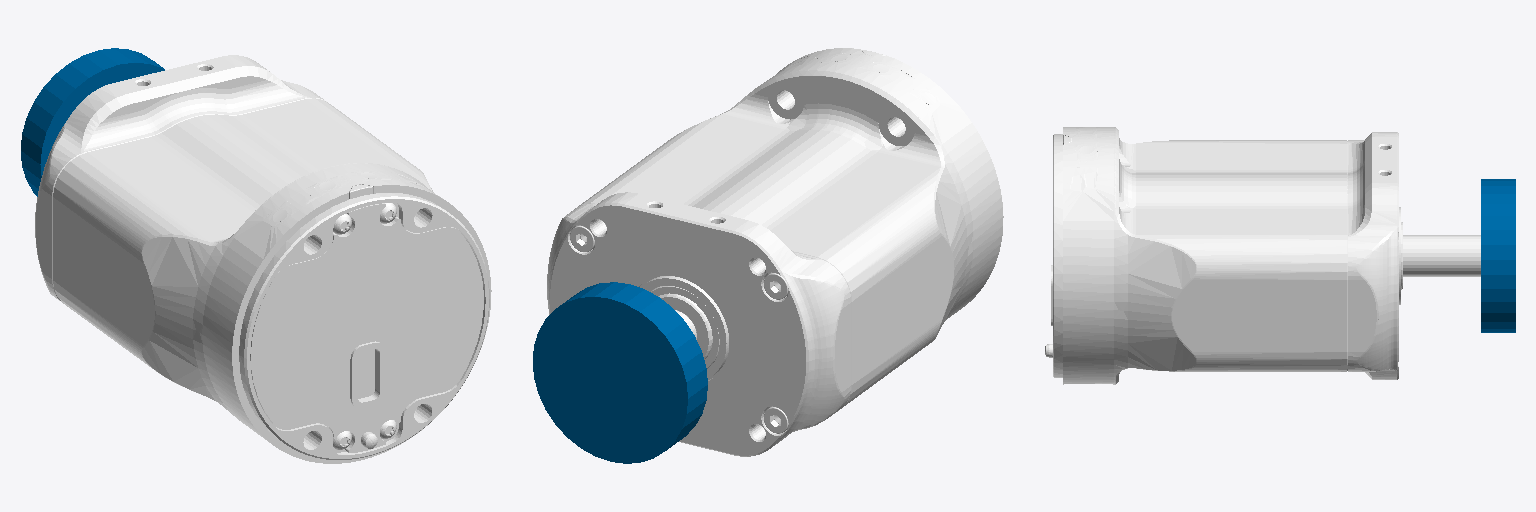
robot.urdf — ur5e_epick:
<?xml version="1.0" encoding="utf-8" ?>
<!-- =================================================================================== -->
<!-- |    This document was autogenerated by xacro from [local-path]/lab_workspaces/lab09_ws/src/lab09_gazebo/urdf/ur5e_robotiq_epick_robot.urdf.xacro | -->
<!-- |    EDITING THIS FILE BY HAND IS NOT RECOMMENDED                                 | -->
<!-- =================================================================================== -->
<robot name="ur5e_epick">
    <!--
    Base UR robot series xacro macro.

    NOTE: this is NOT a URDF. It cannot directly be loaded by consumers
    expecting a flattened '.urdf' file. See the top-level '.xacro' for that
    (but note: that .xacro must still be processed by the xacro command).

    For use in '.launch' files: use one of the 'load_urX.launch' convenience
    launch files.

    This file models the base kinematic chain of a UR robot, which then gets
    parameterised by various configuration files to convert it into a UR3(e),
    UR5(e), UR10(e) or UR16e.

    NOTE: the default kinematic parameters (ie: link lengths, frame locations,
    offets, etc) do not correspond to any particular robot. They are defaults
    only. There WILL be non-zero offsets between the Forward Kinematics results
    in TF (ie: robot_state_publisher) and the values reported by the Teach
    Pendant.

    For accurate (and robot-specific) transforms, the 'kinematics_parameters_file'
    parameter MUST point to a .yaml file containing the appropriate values for
    the targetted robot.

    If using the UniversalRobots/Universal_Robots_ROS_Driver, follow the steps
    described in the readme of that repository to extract the kinematic
    calibration from the controller and generate the required .yaml file.

    Main author of the migration to yaml configs: [author].

    Contributors to previous versions (in no particular order):

     - [author]
     - [author]
     - [author]
     - [author]
     - [author]
     - [author]
     - [author]
     - [author]
     - [author]
     - [author]
     - [author]
     - [author]
     - [author]
     - [author]
     - [author]
     - [author]
     - [author]
  -->
    <!--
    NOTE: the macro defined in this file is NOT part of the public API of this
          package. Users CANNOT rely on this file being available, or stored in
          this location. Nor can they rely on the existence of the macro.
  -->
    <transmission name="shoulder_pan_trans">
        <type>transmission_interface/SimpleTransmission</type>
        <joint name="shoulder_pan_joint">
            <hardwareInterface>hardware_interface/PositionJointInterface</hardwareInterface>
        </joint>
        <actuator name="shoulder_pan_motor">
            <mechanicalReduction>1</mechanicalReduction>
        </actuator>
    </transmission>
    <transmission name="shoulder_lift_trans">
        <type>transmission_interface/SimpleTransmission</type>
        <joint name="shoulder_lift_joint">
            <hardwareInterface>hardware_interface/PositionJointInterface</hardwareInterface>
        </joint>
        <actuator name="shoulder_lift_motor">
            <mechanicalReduction>1</mechanicalReduction>
        </actuator>
    </transmission>
    <transmission name="elbow_trans">
        <type>transmission_interface/SimpleTransmission</type>
        <joint name="elbow_joint">
            <hardwareInterface>hardware_interface/PositionJointInterface</hardwareInterface>
        </joint>
        <actuator name="elbow_motor">
            <mechanicalReduction>1</mechanicalReduction>
        </actuator>
    </transmission>
    <transmission name="wrist_1_trans">
        <type>transmission_interface/SimpleTransmission</type>
        <joint name="wrist_1_joint">
            <hardwareInterface>hardware_interface/PositionJointInterface</hardwareInterface>
        </joint>
        <actuator name="wrist_1_motor">
            <mechanicalReduction>1</mechanicalReduction>
        </actuator>
    </transmission>
    <transmission name="wrist_2_trans">
        <type>transmission_interface/SimpleTransmission</type>
        <joint name="wrist_2_joint">
            <hardwareInterface>hardware_interface/PositionJointInterface</hardwareInterface>
        </joint>
        <actuator name="wrist_2_motor">
            <mechanicalReduction>1</mechanicalReduction>
        </actuator>
    </transmission>
    <transmission name="wrist_3_trans">
        <type>transmission_interface/SimpleTransmission</type>
        <joint name="wrist_3_joint">
            <hardwareInterface>hardware_interface/PositionJointInterface</hardwareInterface>
        </joint>
        <actuator name="wrist_3_motor">
            <mechanicalReduction>1</mechanicalReduction>
        </actuator>
    </transmission>
    <!-- links: main serial chain -->
    <link name="base_link" />
    <link name="base_link_inertia">
        <visual>
            <origin rpy="0 0 3.14159265359" xyz="0 0 0" />
            <geometry>
                <mesh filename="package://ur_description/meshes/ur5e/visual/base.dae" />
            </geometry>
            <material name="LightGrey">
                <color rgba="0.7 0.7 0.7 1.0" />
            </material>
        </visual>
        <collision>
            <origin rpy="0 0 3.14159265359" xyz="0 0 0" />
            <geometry>
                <mesh filename="package://ur_description/meshes/ur5e/collision/base.stl" />
            </geometry>
        </collision>
        
<inertial>
            <mass value="4.0" />
            <origin rpy="0 0 0" xyz="0 0 0" />
            <inertia ixx="0.00443333156" ixy="0.0" ixz="0.0" iyy="0.00443333156" iyz="0.0" izz="0.0072" />
        </inertial>

    </link>
    <link name="shoulder_link">
        <visual>
            <origin rpy="0 0 3.14159265359" xyz="0 0 0" />
            <geometry>
                <mesh filename="package://ur_description/meshes/ur5e/visual/shoulder.dae" />
            </geometry>
            <material name="LightGrey">
                <color rgba="0.7 0.7 0.7 1.0" />
            </material>
        </visual>
        <collision>
            <origin rpy="0 0 3.14159265359" xyz="0 0 0" />
            <geometry>
                <mesh filename="package://ur_description/meshes/ur5e/collision/shoulder.stl" />
            </geometry>
        </collision>
        
<inertial>
            <mass value="3.7" />
            <origin rpy="0 0 0" xyz="0 0 0" />
            <inertia ixx="0.010267495893" ixy="0.0" ixz="0.0" iyy="0.010267495893" iyz="0.0" izz="0.00666" />
        </inertial>

    </link>
    <link name="upper_arm_link">
        <visual>
            <origin rpy="1.57079632679 0 -1.57079632679" xyz="0 0 0.138" />
            <geometry>
                <mesh filename="package://ur_description/meshes/ur5e/visual/upperarm.dae" />
            </geometry>
            <material name="LightGrey">
                <color rgba="0.7 0.7 0.7 1.0" />
            </material>
        </visual>
        <collision>
            <origin rpy="1.57079632679 0 -1.57079632679" xyz="0 0 0.138" />
            <geometry>
                <mesh filename="package://ur_description/meshes/ur5e/collision/upperarm.stl" />
            </geometry>
        </collision>
        
<inertial>
            <mass value="8.393" />
            <origin rpy="0 1.57079632679 0" xyz="-0.2125 0.0 0.138" />
            <inertia ixx="0.133885781862" ixy="0.0" ixz="0.0" iyy="0.133885781862" iyz="0.0" izz="0.0151074" />
        </inertial>

    </link>
    <link name="forearm_link">
        <visual>
            <origin rpy="1.57079632679 0 -1.57079632679" xyz="0 0 0.007" />
            <geometry>
                <mesh filename="package://ur_description/meshes/ur5e/visual/forearm.dae" />
            </geometry>
            <material name="LightGrey">
                <color rgba="0.7 0.7 0.7 1.0" />
            </material>
        </visual>
        <collision>
            <origin rpy="1.57079632679 0 -1.57079632679" xyz="0 0 0.007" />
            <geometry>
                <mesh filename="package://ur_description/meshes/ur5e/collision/forearm.stl" />
            </geometry>
        </collision>
        
<inertial>
            <mass value="2.275" />
            <origin rpy="0 1.57079632679 0" xyz="-0.1961 0.0 0.007" />
            <inertia ixx="0.0312093550996" ixy="0.0" ixz="0.0" iyy="0.0312093550996" iyz="0.0" izz="0.004095" />
        </inertial>

    </link>
    <link name="wrist_1_link">
        <visual>
            <!-- TODO: Move this to a parameter -->
            <origin rpy="1.57079632679 0 0" xyz="0 0 -0.127" />
            <geometry>
                <mesh filename="package://ur_description/meshes/ur5e/visual/wrist1.dae" />
            </geometry>
            <material name="LightGrey">
                <color rgba="0.7 0.7 0.7 1.0" />
            </material>
        </visual>
        <collision>
            <origin rpy="1.57079632679 0 0" xyz="0 0 -0.127" />
            <geometry>
                <mesh filename="package://ur_description/meshes/ur5e/collision/wrist1.stl" />
            </geometry>
        </collision>
        
<inertial>
            <mass value="1.219" />
            <origin rpy="0 0 0" xyz="0 0 0" />
            <inertia ixx="0.00255989897604" ixy="0.0" ixz="0.0" iyy="0.00255989897604" iyz="0.0" izz="0.0021942" />
        </inertial>

    </link>
    <link name="wrist_2_link">
        <visual>
            <origin rpy="0 0 0" xyz="0 0 -0.0997" />
            <geometry>
                <mesh filename="package://ur_description/meshes/ur5e/visual/wrist2.dae" />
            </geometry>
            <material name="LightGrey">
                <color rgba="0.7 0.7 0.7 1.0" />
            </material>
        </visual>
        <collision>
            <origin rpy="0 0 0" xyz="0 0 -0.0997" />
            <geometry>
                <mesh filename="package://ur_description/meshes/ur5e/collision/wrist2.stl" />
            </geometry>
        </collision>
        
<inertial>
            <mass value="1.219" />
            <origin rpy="0 0 0" xyz="0 0 0" />
            <inertia ixx="0.00255989897604" ixy="0.0" ixz="0.0" iyy="0.00255989897604" iyz="0.0" izz="0.0021942" />
        </inertial>

    </link>
    <link name="wrist_3_link">
        <visual>
            <origin rpy="1.57079632679 0 0" xyz="0 0 -0.0989" />
            <geometry>
                <mesh filename="package://ur_description/meshes/ur5e/visual/wrist3.dae" />
            </geometry>
            <material name="LightGrey">
                <color rgba="0.7 0.7 0.7 1.0" />
            </material>
        </visual>
        <collision>
            <origin rpy="1.57079632679 0 0" xyz="0 0 -0.0989" />
            <geometry>
                <mesh filename="package://ur_description/meshes/ur5e/collision/wrist3.stl" />
            </geometry>
        </collision>
        
<inertial>
            <mass value="0.1879" />
            <origin rpy="0 0 0" xyz="0.0 0.0 -0.0229" />
            <inertia ixx="9.89041005217e-05" ixy="0.0" ixz="0.0" iyy="9.89041005217e-05" iyz="0.0" izz="0.0001321171875" />
        </inertial>

    </link>
    <!-- joints: main serial chain -->
    <joint name="base_link-base_link_inertia" type="fixed">
        <parent link="base_link" />
        <child link="base_link_inertia" />
        <!-- 'base_link' is REP-103 aligned (so X+ forward), while the internal
           frames of the robot/controller have X+ pointing backwards.
           Use the joint between 'base_link' and 'base_link_inertia' (a dummy
           link/frame) to introduce the necessary rotation over Z (of pi rad).
      -->
        <origin rpy="0 0 3.14159265359" xyz="0 0 0" />
    </joint>
    <joint name="shoulder_pan_joint" type="revolute">
        <parent link="base_link_inertia" />
        <child link="shoulder_link" />
        <origin rpy="0 0 0" xyz="0 0 0.1625" />
        <axis xyz="0 0 1" />
        <limit effort="150.0" lower="-3.14159265359" upper="3.14159265359" velocity="3.14159265359" />
        <dynamics damping="0" friction="0" />
    </joint>
    <joint name="shoulder_lift_joint" type="revolute">
        <parent link="shoulder_link" />
        <child link="upper_arm_link" />
        <origin rpy="1.570796327 0 0" xyz="0 0 0" />
        <axis xyz="0 0 1" />
        <limit effort="150.0" lower="-6.28318530718" upper="6.28318530718" velocity="3.14159265359" />
        <dynamics damping="0" friction="0" />
    </joint>
    <joint name="elbow_joint" type="revolute">
        <parent link="upper_arm_link" />
        <child link="forearm_link" />
        <origin rpy="0 0 0" xyz="-0.425 0 0" />
        <axis xyz="0 0 1" />
        <limit effort="150.0" lower="-3.14159265359" upper="3.14159265359" velocity="3.14159265359" />
        <dynamics damping="0" friction="0" />
    </joint>
    <joint name="wrist_1_joint" type="revolute">
        <parent link="forearm_link" />
        <child link="wrist_1_link" />
        <origin rpy="0 0 0" xyz="-0.3922 0 0.1333" />
        <axis xyz="0 0 1" />
        <limit effort="28.0" lower="-6.28318530718" upper="6.28318530718" velocity="3.14159265359" />
        <dynamics damping="0" friction="0" />
    </joint>
    <joint name="wrist_2_joint" type="revolute">
        <parent link="wrist_1_link" />
        <child link="wrist_2_link" />
        <origin rpy="1.570796327 0 0" xyz="0 -0.0997 -2.0448811823e-11" />
        <axis xyz="0 0 1" />
        <limit effort="28.0" lower="-6.28318530718" upper="6.28318530718" velocity="3.14159265359" />
        <dynamics damping="0" friction="0" />
    </joint>
    <joint name="wrist_3_joint" type="revolute">
        <parent link="wrist_2_link" />
        <child link="wrist_3_link" />
        <origin rpy="1.57079632659 3.14159265359 3.14159265359" xyz="0 0.0996 -2.04283014801e-11" />
        <axis xyz="0 0 1" />
        <limit effort="28.0" lower="-6.28318530718" upper="6.28318530718" velocity="3.14159265359" />
        <dynamics damping="0" friction="0" />
    </joint>
    <!-- ROS-Industrial 'base' frame: base_link to UR 'Base' Coordinates transform -->
    <link name="base" />
    <joint name="base_link-base_fixed_joint" type="fixed">
        <!-- Note the rotation over Z of pi radians: as base_link is REP-103
           aligned (ie: has X+ forward, Y+ left and Z+ up), this is needed
           to correctly align 'base' with the 'Base' coordinate system of
           the UR controller.
      -->
        <origin rpy="0 0 3.14159265359" xyz="0 0 0" />
        <parent link="base_link" />
        <child link="base" />
    </joint>
    <!-- ROS-Industrial 'flange' frame: attachment point for EEF models -->
    <link name="flange" />
    <joint name="wrist_3-flange" type="fixed">
        <parent link="wrist_3_link" />
        <child link="flange" />
        <origin rpy="0 -1.57079632679 -1.57079632679" xyz="0 0 0" />
    </joint>
    <!-- ROS-Industrial 'tool0' frame: all-zeros tool frame -->
    <link name="tool0" />
    <joint name="flange-tool0" type="fixed">
        <!-- default toolframe: X+ left, Y+ up, Z+ front -->
        <origin rpy="1.57079632679 0 1.57079632679" xyz="0 0 0" />
        <parent link="flange" />
        <child link="tool0" />
    </joint>
    <!-- Configure self collision properties per link -->
    <gazebo reference="shoulder_link">
        <selfCollide>true</selfCollide>
    </gazebo>
    <gazebo reference="upper_arm_link">
        <selfCollide>true</selfCollide>
    </gazebo>
    <gazebo reference="forearm_link">
        <selfCollide>true</selfCollide>
    </gazebo>
    <gazebo reference="wrist_1_link">
        <selfCollide>true</selfCollide>
    </gazebo>
    <gazebo reference="wrist_3_link">
        <selfCollide>true</selfCollide>
    </gazebo>
    <gazebo reference="wrist_2_link">
        <selfCollide>true</selfCollide>
    </gazebo>
    <gazebo reference="ee_link">
        <selfCollide>true</selfCollide>
    </gazebo>
    <!--
          Inject Gazebo ROS Control plugin, which allows us to use ros_control
          controllers to control the virtual robot hw.
        -->
    <gazebo>
        <plugin filename="libgazebo_ros_control.so" name="ros_control">
            <!--robotNamespace>/</robotNamespace-->
            <!--robotSimType>gazebo_ros_control/DefaultRobotHWSim</robotSimType-->
        </plugin>
    </gazebo>
    <link name="epick">
        
<inertial>
            <mass value="0.745" />
            <origin rpy="0 0 0" xyz="0 0.0 0.055" />
            <inertia ixx="0.003084" ixy="0.0" ixz="0.0" iyy="0.002999" iyz="0.0" izz="0.000546" />
        </inertial>

        <visual>
            <origin rpy="0 0 0" xyz="0 0 0.095" />
            <geometry>
                <mesh filename="package://lab09_gazebo/meshes/robotiq_epick/visual/robotiq_epick.dae" scale="0.001 0.001 0.001" />
            </geometry>
            <material name="">
                <color rgba="1 1 1 1" />
            </material>
        </visual>
        <visual>
            <origin rpy="0 0 0" xyz="0 0 0.11" />
            <geometry>
                <cylinder length="0.03" radius="0.006" />
            </geometry>
            <material name="">
                <color rgba="1 1 1 1" />
            </material>
        </visual>
        <collision>
            <!-- -0.095 + 0.102/2 = -0.044-->
            <origin rpy="0 0 0" xyz="0 0 0.065" />
            <geometry>
                <cylinder length="0.13" radius="0.044" />
            </geometry>
        </collision>
        <!--       <collision>
      <origin xyz="0 0 ${0.008+0.095}" rpy="0 0 0"/>
      <geometry>
        <cylinder radius="0.006" length="0.016"/>
      </geometry>
      <material name="">
        <color rgba="1 1 1 1"/>
      </material>
    </collision>  -->
    </link>
    <joint name="epick_end_effector_joint" type="revolute">
        <axis xyz="1 0 0" />
        <parent link="epick" />
        <child link="epick_end_effector" />
        <origin rpy="0 0 0" xyz="0 0 0.13" />
        <limit effort="50" lower="0" upper="0" velocity="50" />
        <dynamics damping="0.0" friction="10" />
    </joint>
    <link name="epick_end_effector">
        <gravity>0</gravity>
        <visual>
            <origin rpy="0 0 0.005" xyz="0 0 0" />
            <geometry>
                <cylinder length="0.01" radius="0.0225" />
            </geometry>
            <!-- <material name="transparent">
        <color rgba="0 0 0 0"/>
      </material> -->
        </visual>
        
<inertial>
            <origin rpy="0 0 0" xyz="0 0 0" />
            <mass value="0.0001" />
            <inertia ixx="1e-08" ixy="0" ixz="0" iyy="1e-08" iyz="0" izz="1e-08" />
        </inertial>

    </link>
    <!-- http://docs.ros.org/melodic/api/gazebo_plugins/html/group__GazeboRosVacuumGripper.html -->
    <gazebo>
        <plugin filename="libgazebo_ros_vacuum_gripper.so" name="gazebo_ros_vacuum_gripper">
            <robotNamespace>ur5e/epick</robotNamespace>
            <bodyName>epick_end_effector</bodyName>
            <topicName>grasping</topicName>
            <maxForce>150</maxForce>
            <maxDistance>0.03</maxDistance>
            <minDistance>0.01</minDistance>
        </plugin>
    </gazebo>
    <!-- fix epick to robot -->
    <joint name="robotiq_epick_joint" type="fixed">
        <origin rpy="0 0 -1.57079632679" xyz="0 0 0.004" />
        <parent link="tool0" />
        <child link="epick" />
    </joint>
    <transmission name="trans_shoulder_pan_joint">
        <type>transmission_interface/SimpleTransmission</type>
        <joint name="shoulder_pan_joint">
            <hardwareInterface>hardware_interface/EffortJointInterface</hardwareInterface>
        </joint>
        <actuator name="shoulder_pan_joint_motor">
            <hardwareInterface>hardware_interface/EffortJointInterface</hardwareInterface>
            <mechanicalReduction>1</mechanicalReduction>
        </actuator>
    </transmission>
    <transmission name="trans_shoulder_lift_joint">
        <type>transmission_interface/SimpleTransmission</type>
        <joint name="shoulder_lift_joint">
            <hardwareInterface>hardware_interface/EffortJointInterface</hardwareInterface>
        </joint>
        <actuator name="shoulder_lift_joint_motor">
            <hardwareInterface>hardware_interface/EffortJointInterface</hardwareInterface>
            <mechanicalReduction>1</mechanicalReduction>
        </actuator>
    </transmission>
    <transmission name="trans_elbow_joint">
        <type>transmission_interface/SimpleTransmission</type>
        <joint name="elbow_joint">
            <hardwareInterface>hardware_interface/EffortJointInterface</hardwareInterface>
        </joint>
        <actuator name="elbow_joint_motor">
            <hardwareInterface>hardware_interface/EffortJointInterface</hardwareInterface>
            <mechanicalReduction>1</mechanicalReduction>
        </actuator>
    </transmission>
    <transmission name="trans_wrist_1_joint">
        <type>transmission_interface/SimpleTransmission</type>
        <joint name="wrist_1_joint">
            <hardwareInterface>hardware_interface/EffortJointInterface</hardwareInterface>
        </joint>
        <actuator name="wrist_1_joint_motor">
            <hardwareInterface>hardware_interface/EffortJointInterface</hardwareInterface>
            <mechanicalReduction>1</mechanicalReduction>
        </actuator>
    </transmission>
    <transmission name="trans_wrist_2_joint">
        <type>transmission_interface/SimpleTransmission</type>
        <joint name="wrist_2_joint">
            <hardwareInterface>hardware_interface/EffortJointInterface</hardwareInterface>
        </joint>
        <actuator name="wrist_2_joint_motor">
            <hardwareInterface>hardware_interface/EffortJointInterface</hardwareInterface>
            <mechanicalReduction>1</mechanicalReduction>
        </actuator>
    </transmission>
    <transmission name="trans_wrist_3_joint">
        <type>transmission_interface/SimpleTransmission</type>
        <joint name="wrist_3_joint">
            <hardwareInterface>hardware_interface/EffortJointInterface</hardwareInterface>
        </joint>
        <actuator name="wrist_3_joint_motor">
            <hardwareInterface>hardware_interface/EffortJointInterface</hardwareInterface>
            <mechanicalReduction>1</mechanicalReduction>
        </actuator>
    </transmission>
    <gazebo>
        <plugin name="gazebo_ros_control" filename="libgazebo_ros_control.so">
            <robotNamespace>/</robotNamespace>
        </plugin>
    </gazebo>
</robot>

--- Facts derived from the render (not from the file) ---
Views: 3 orthographic renders of the robot side by side, from view 1: azimuth 30°, elevation 25°; view 2: azimuth 150°, elevation 25°; view 3: azimuth 270°, elevation 25°.
Robot: ur5e_epick — 13 links, 12 joints (7 revolute, 5 fixed); root link base_link; default pose: all joints at 0.
Links seen in each view (by area): view 1: epick, epick_end_effector; view 2: epick, epick_end_effector; view 3: epick, epick_end_effector.
Boxes of the visible links, x1,y1,x2,y2 form: epick: (35, 55, 491, 463); epick_end_effector: (21, 48, 164, 196); epick: (547, 48, 1003, 456); epick_end_effector: (533, 282, 707, 463); epick: (1045, 127, 1480, 384); epick_end_effector: (1481, 179, 1515, 332).
Bounding box of the posed robot: 0.083 × 0.1374 × 0.075 m (x, y, z).
Meshes: 8 distinct files referenced, 1 mesh visuals loaded (1 Collada DAE); not drawn: 7 (reference not matched to a file when rendering).